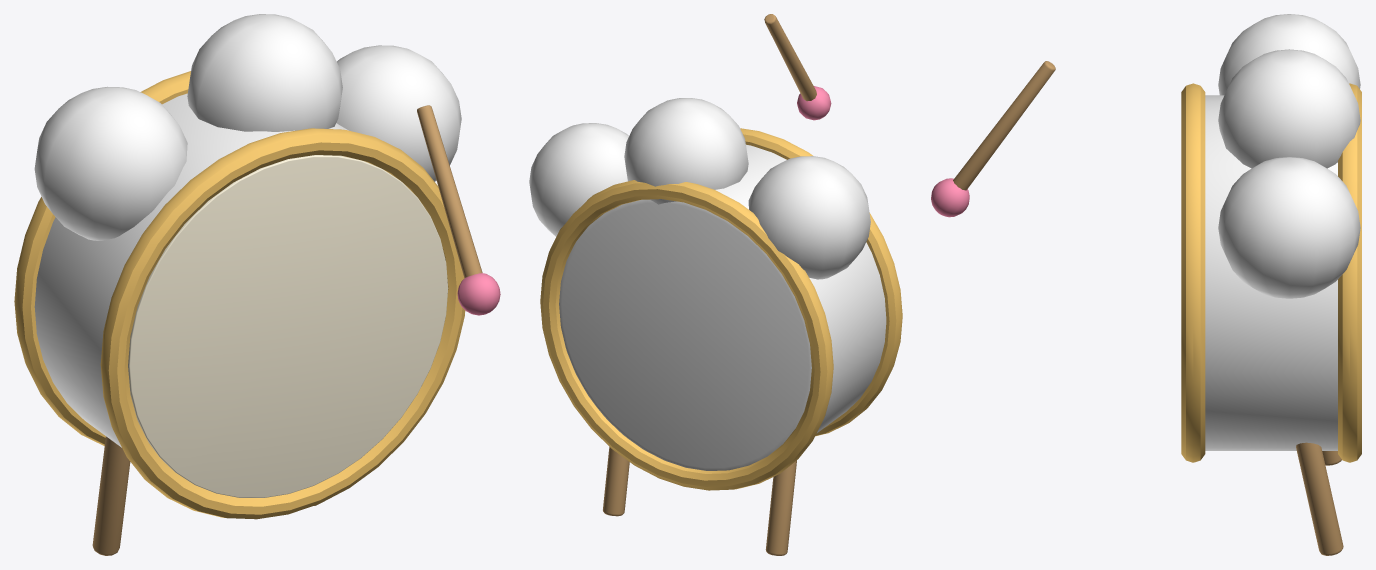
The model's file is object-drum-cloud.glb.
3 views of the same model, side by side, from view 1: azimuth 30°, elevation 25°; view 2: azimuth 150°, elevation 25°; view 3: azimuth 270°, elevation 25° (orthographic). The views are drawn at different scales.
Visible parts, largest first — view 1: part-drum-mesh, part-stick-mesh, Node_0-mesh; view 2: part-drum-mesh, Node_0-mesh, part-stick-mesh; view 3: part-drum-mesh, part-stick-mesh, Node_0-mesh.
Part boxes in pixels (x1,y1,x2,y2): part-drum-mesh: (14, 14, 465, 519); part-stick-mesh: (417, 105, 500, 315); Node_0-mesh: (92, 436, 317, 555); part-drum-mesh: (529, 98, 902, 490); Node_0-mesh: (603, 447, 796, 555); part-stick-mesh: (764, 14, 831, 120); part-drum-mesh: (1181, 14, 1361, 462); part-stick-mesh: (931, 61, 1055, 217); Node_0-mesh: (1296, 442, 1343, 555).
Bounding box in the file's own units: 1.2 × 1.47 × 1.21.
